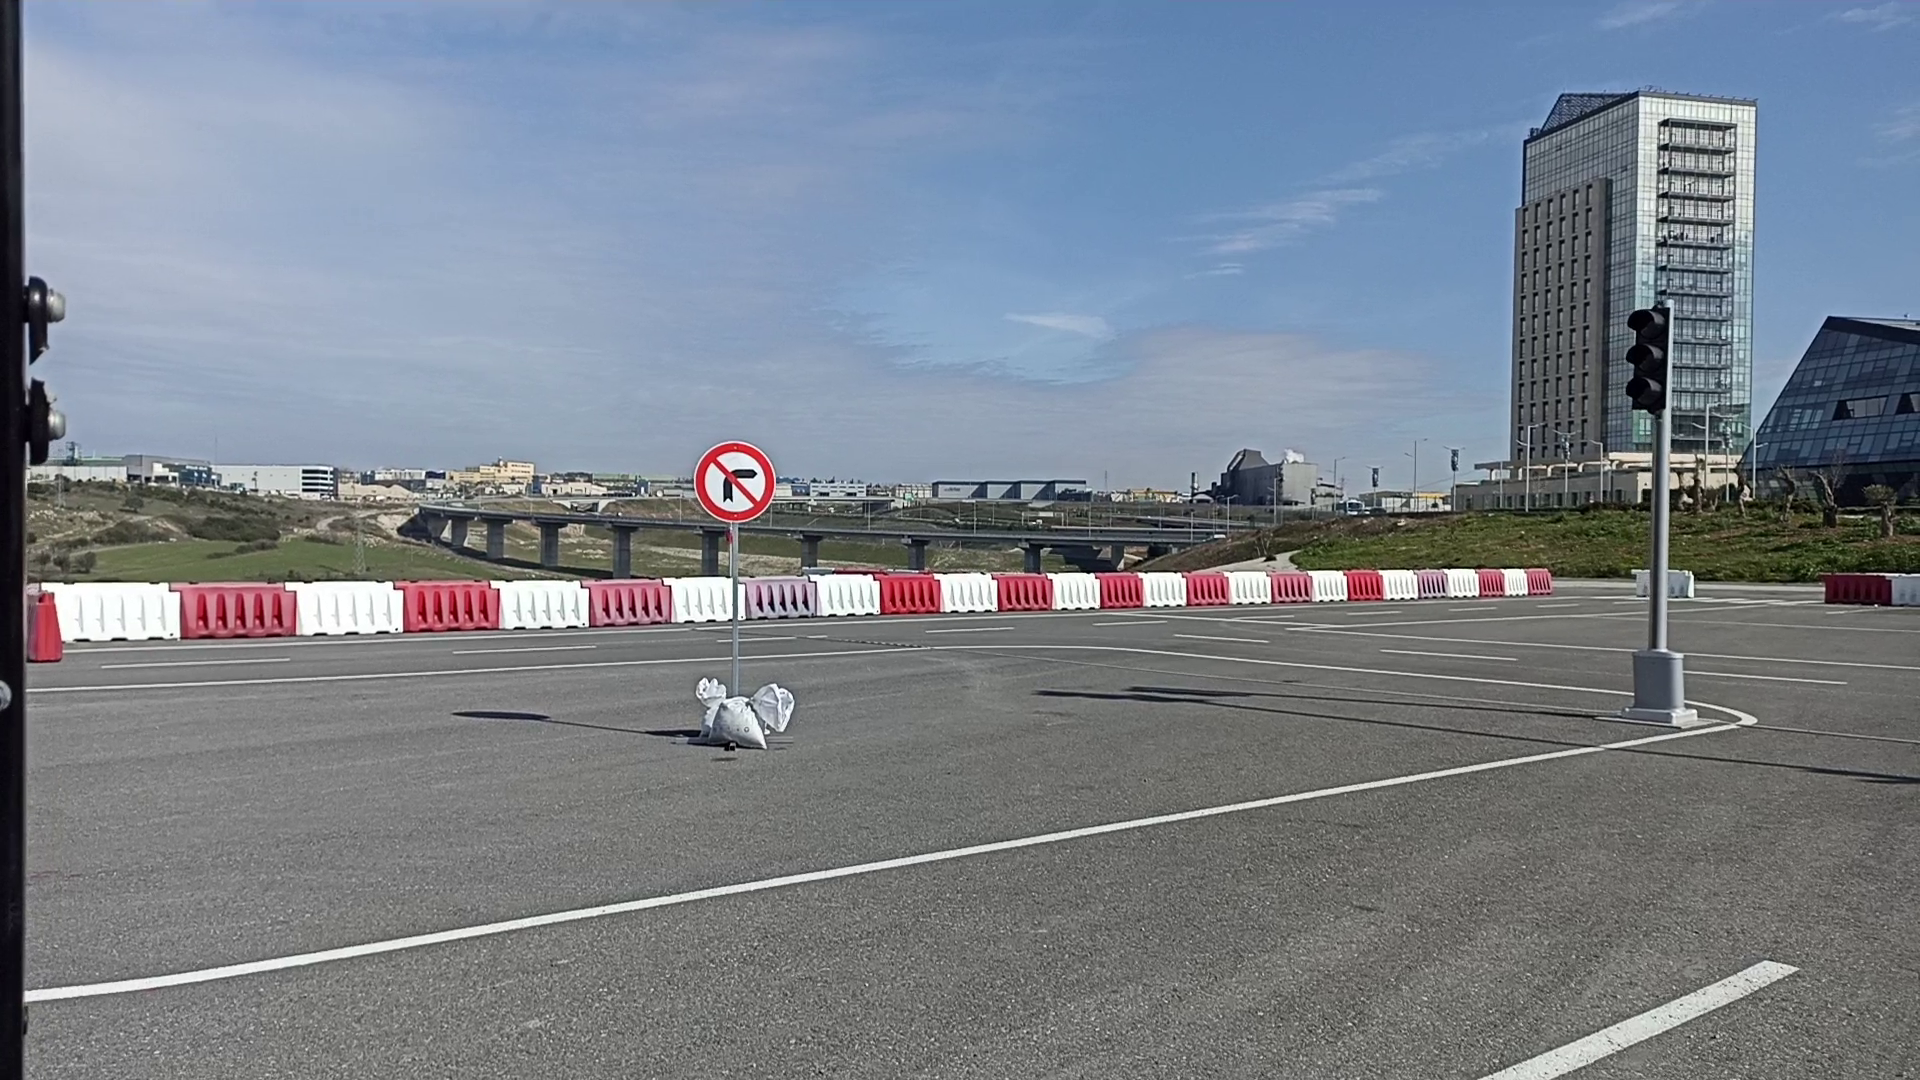noleftturn: (690, 438, 777, 524)
trafficlight: (1623, 299, 1675, 413)
